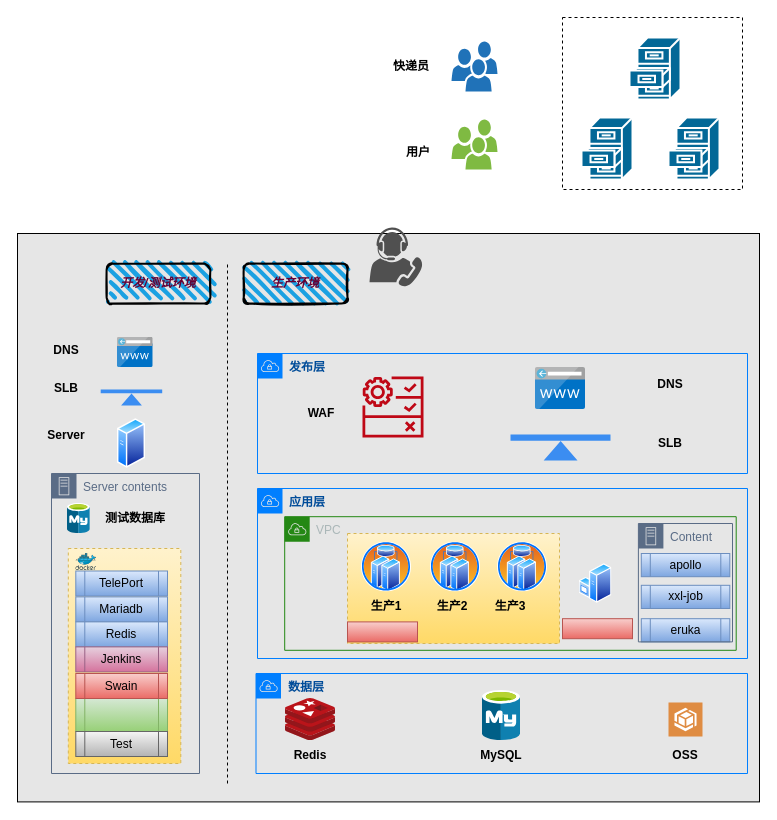
This 777x820 diagram has some shape labels left out. Here are the shapes that lost their labels. From the top down, the centre of each, then its label:
At (382,631): "工作节点".
At (597,628): "调度节点".
At (121,715): "CodeUp".
